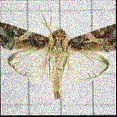Spodoptera litura: (1, 5, 116, 100)
